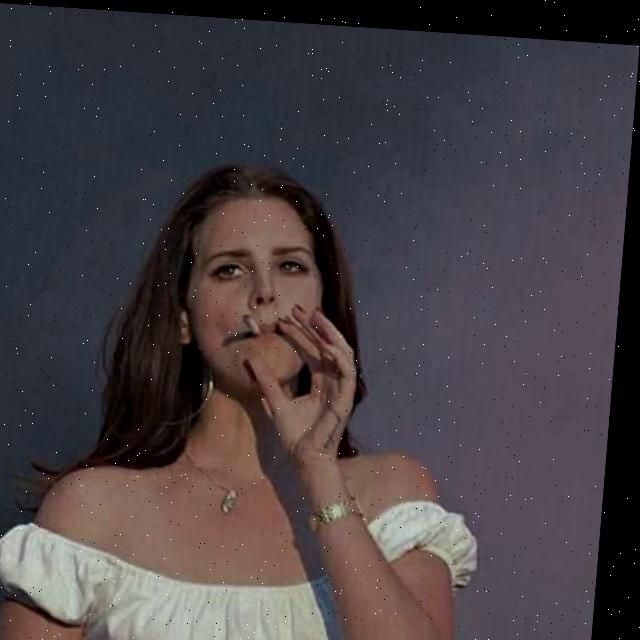cigarette: (246, 310, 269, 333)
